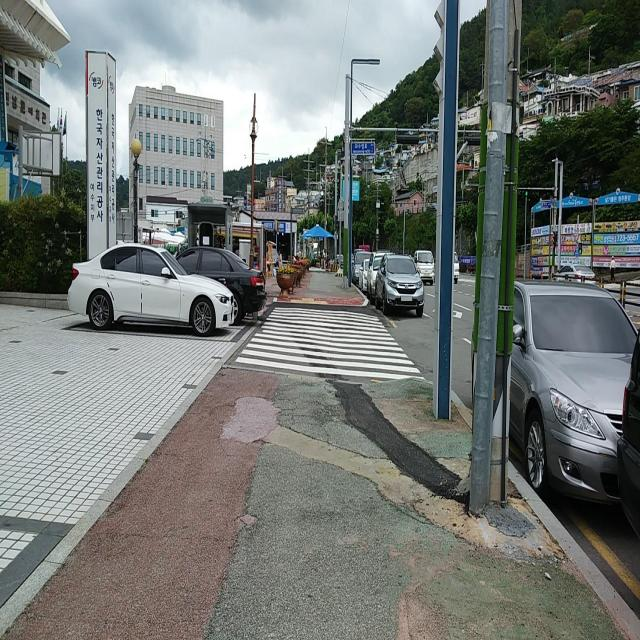횡단보도: (234, 305, 427, 382)
